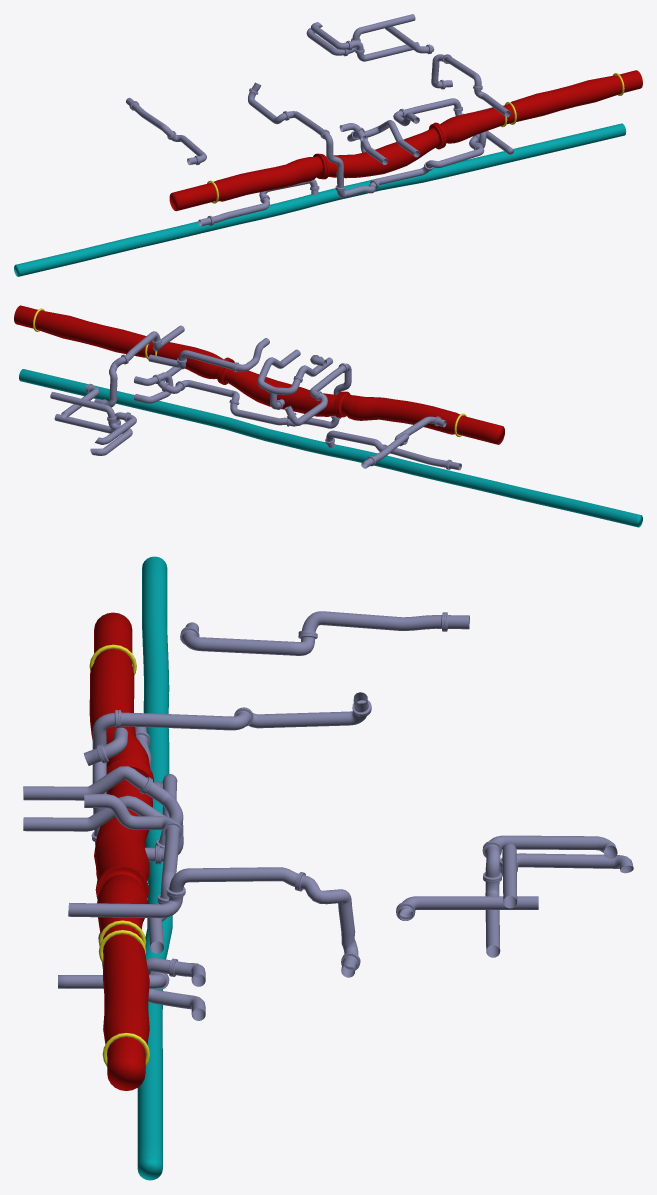
The model's file is geo_basement_pipes_high.fbx.
The picture shows the model from 3 angles, top to bottom: view 1: azimuth 30°, elevation 25°; view 2: azimuth 150°, elevation 25°; view 3: azimuth 270°, elevation 25°; orthographic projection. The views are drawn at different scales.
Parts seen in each view (by area): view 1: geo_basement_Pipes:Main_Pipe, geo_basement_Pipes:Med_Pipes, geo_basement_Pipes:clear_pipe_1; view 2: geo_basement_Pipes:Med_Pipes, geo_basement_Pipes:Main_Pipe, geo_basement_Pipes:clear_pipe_1; view 3: geo_basement_Pipes:Med_Pipes, geo_basement_Pipes:Main_Pipe, geo_basement_Pipes:clear_pipe_1, geo_basement_Pipes:main_pipe_wallconnection_3.
Part boxes in pixels (x1,y1,x2,y2): geo_basement_Pipes:Main_Pipe: (169,70,642,211); geo_basement_Pipes:Med_Pipes: (126,14,513,226); geo_basement_Pipes:clear_pipe_1: (14,123,626,276); geo_basement_Pipes:Med_Pipes: (50,325,461,470); geo_basement_Pipes:Main_Pipe: (14,305,504,444); geo_basement_Pipes:clear_pipe_1: (19,369,642,527); geo_basement_Pipes:Med_Pipes: (23,611,633,1020); geo_basement_Pipes:Main_Pipe: (89,612,153,1090); geo_basement_Pipes:clear_pipe_1: (137,556,172,1180); geo_basement_Pipes:main_pipe_wallconnection_3: (89,644,149,1066).
Bounding box in the file's own units: 2031 × 286 × 874.
